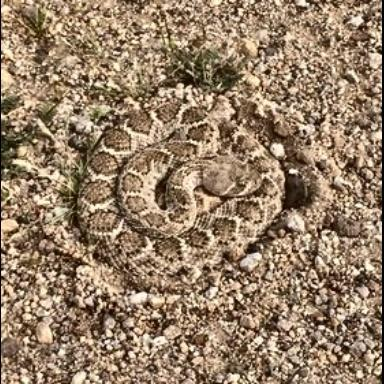snake: (46, 91, 314, 300)
